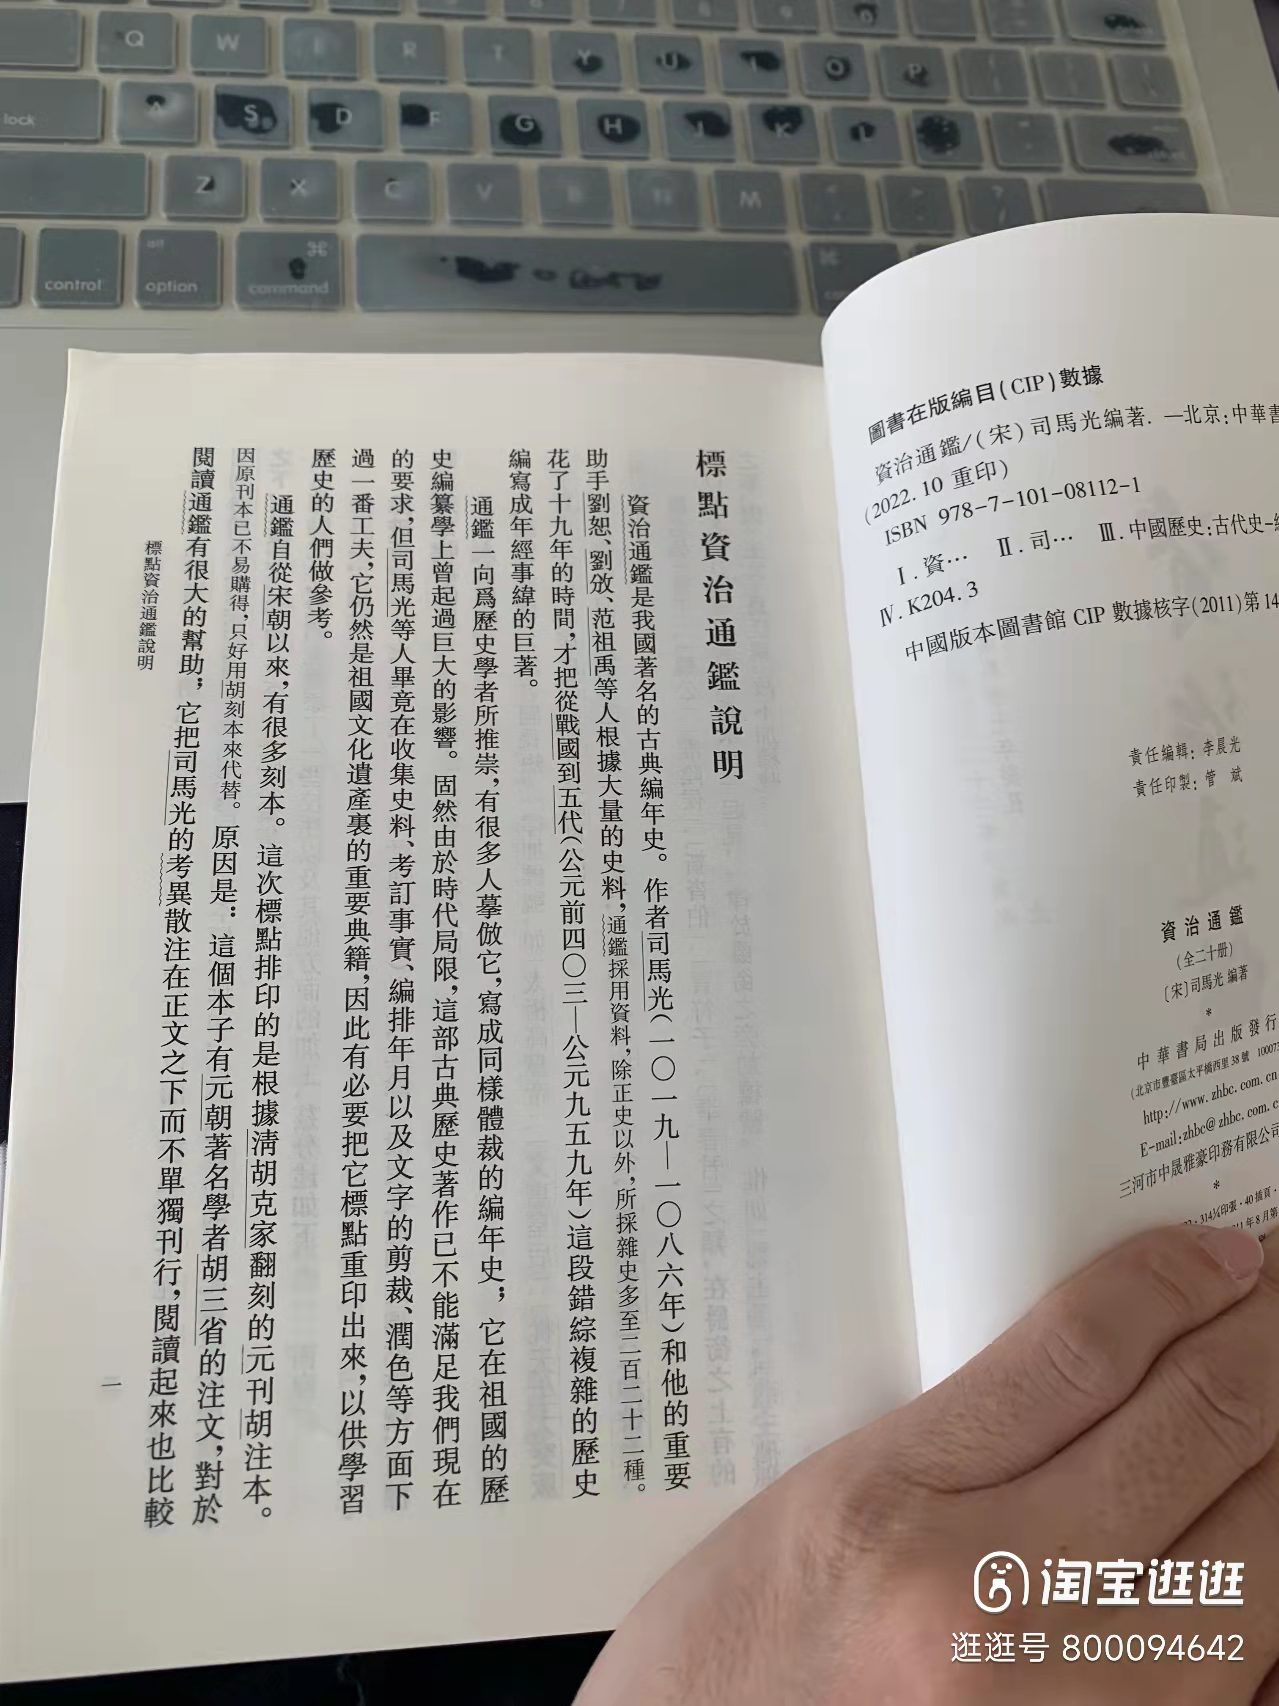book: (4, 201, 1279, 1706)
